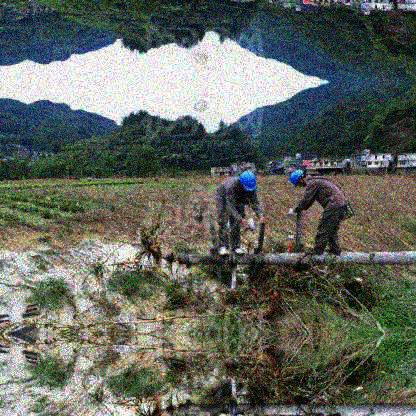helmet: (288, 167, 306, 188)
